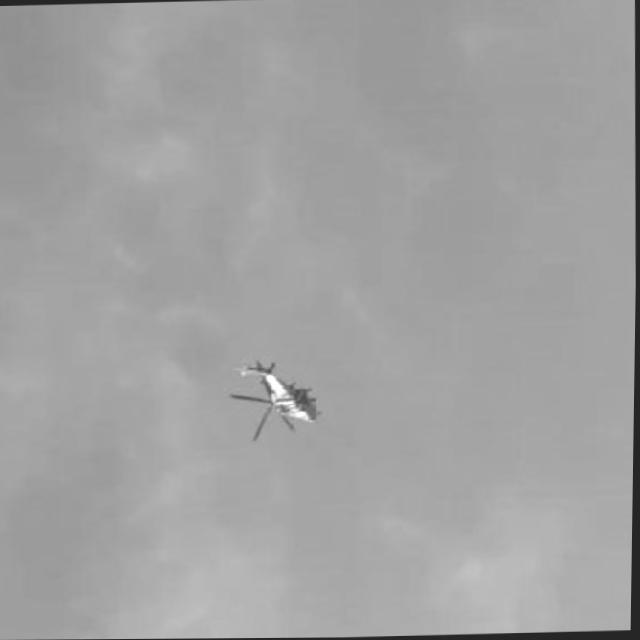helikopter: (228, 358, 318, 444)
